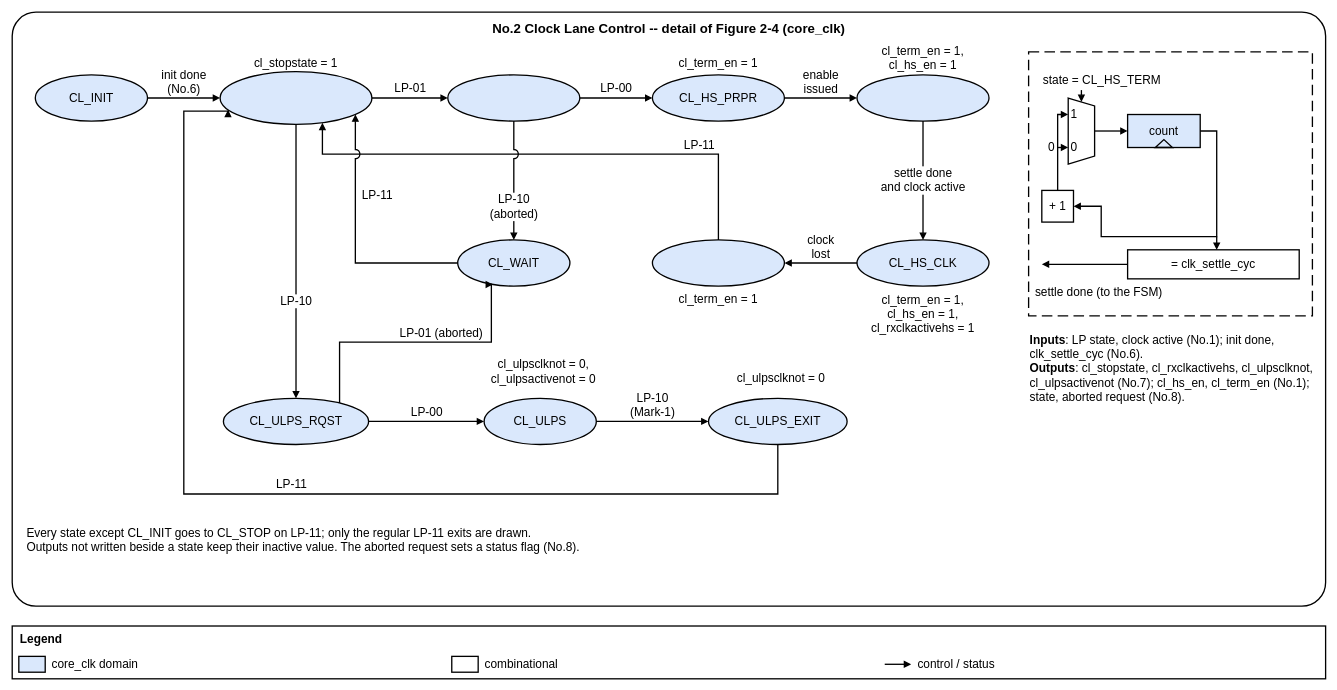
Some shapes in this 1337 by 690 pixel diagram are drawn without their labels. The shapes that lost their labels are listed below. From the top down, each one's box as (x1, y1, x2, y2) in pixels, then its label:
(219, 71, 372, 125): CL_STOP
(447, 74, 580, 121): CL_HS_RQST
(856, 74, 989, 121): CL_HS_TERM
(1028, 51, 1313, 316): settle counter
(651, 239, 785, 286): CL_HS_END
